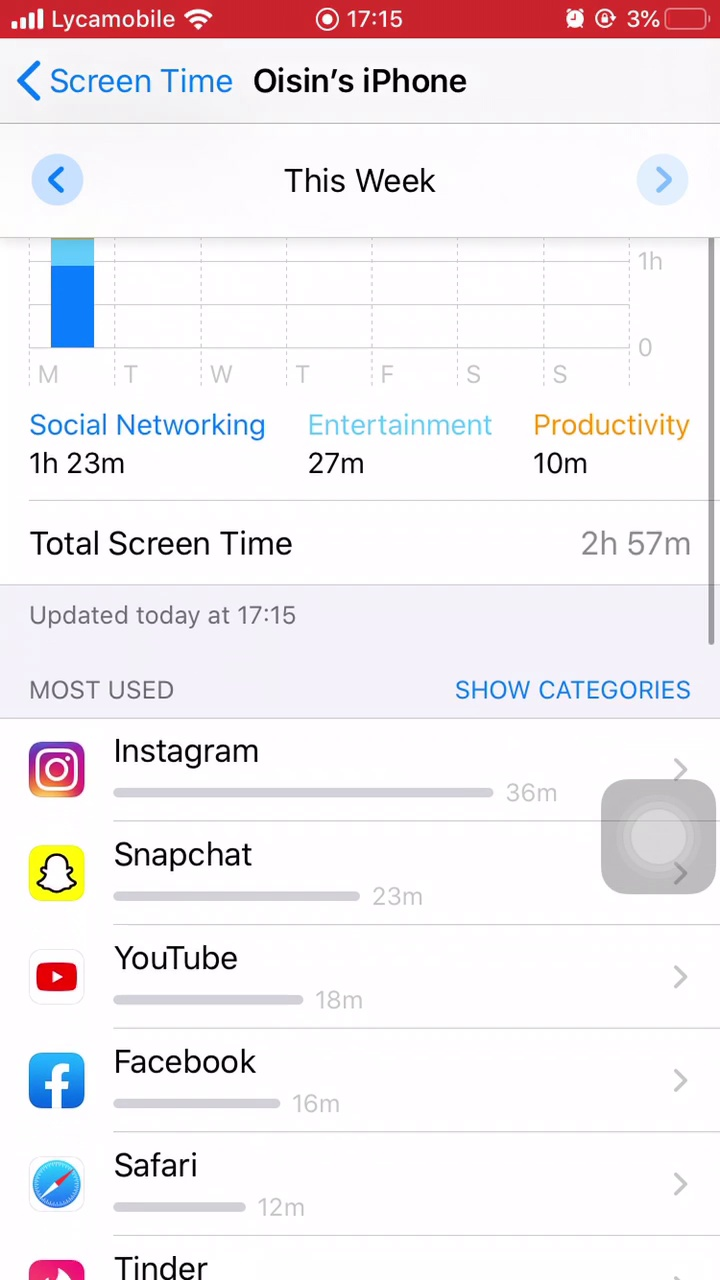use_over: (28, 405, 698, 566)
week: (262, 154, 464, 209)
